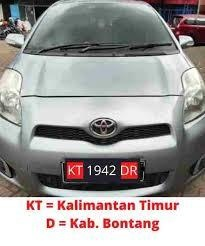plate: (66, 158, 137, 183)
